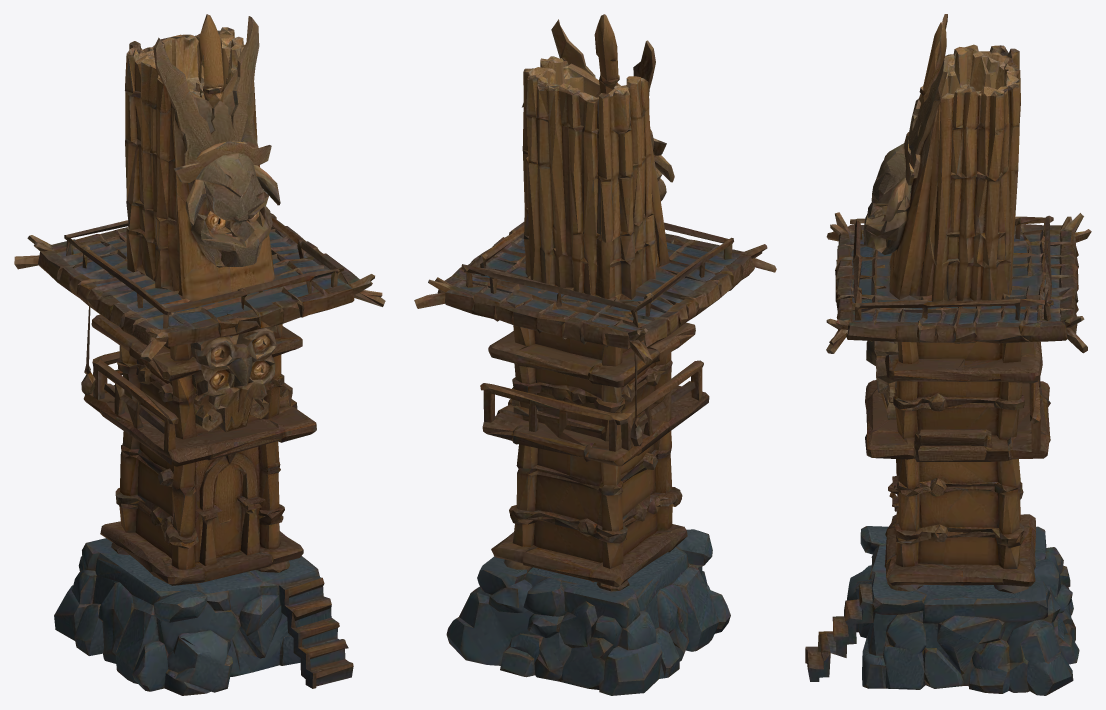
Rendered from watchtower.glb.
The picture shows the model from 3 angles, left to right: view 1: azimuth 30°, elevation 25°; view 2: azimuth 150°, elevation 25°; view 3: azimuth 270°, elevation 25°; orthographic projection. The views are drawn at different scales.
Parts seen in each view (by area): view 1: mesh_node; view 2: mesh_node; view 3: mesh_node.
Boxes of the visible parts, x1,y1,x2,y2 form: mesh_node: (14,14,385,695); mesh_node: (414,14,776,695); mesh_node: (805,14,1091,695).
Size of the model in its own units: 0.7707 by 1.9 by 0.7925.
1 material, 1 textured.
